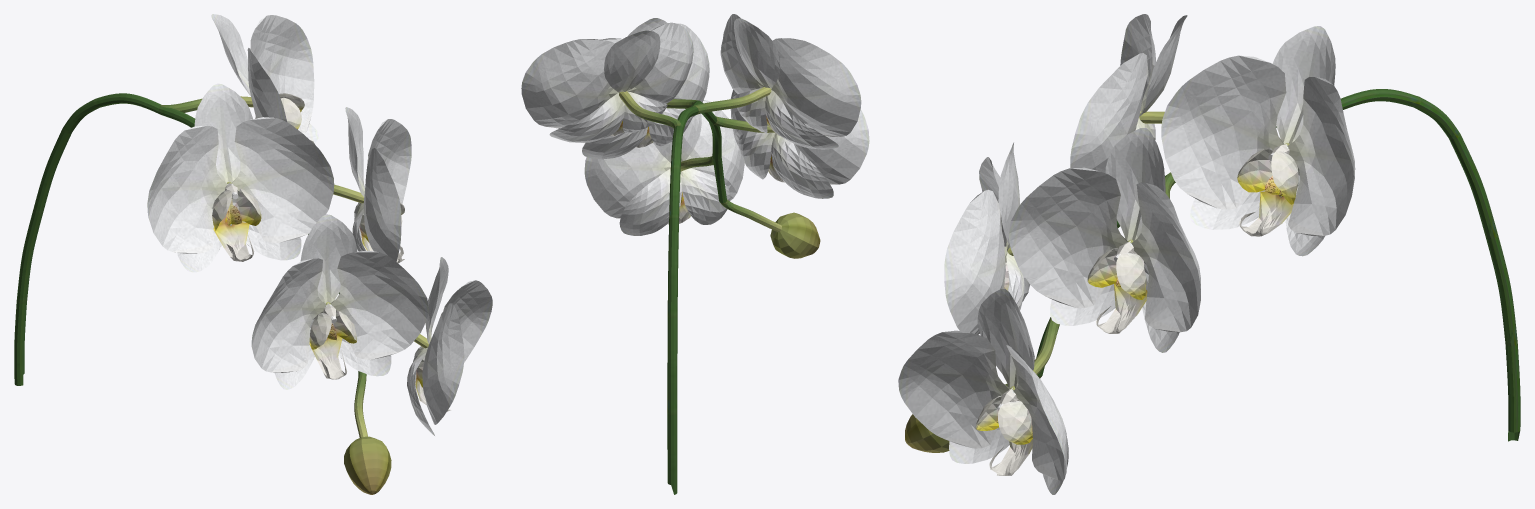
Rendered from orchids.fbx.
The picture shows the model from 3 angles, left to right: view 1: azimuth 30°, elevation 25°; view 2: azimuth 150°, elevation 25°; view 3: azimuth 270°, elevation 25°; orthographic projection. The views are drawn at different scales.
Visible parts, largest first — view 1: orchid; view 2: orchid; view 3: orchid.
Boxes of the visible parts, left/top/right/bottom form: orchid: left=14, top=14, right=492, bottom=494; orchid: left=521, top=14, right=869, bottom=494; orchid: left=898, top=14, right=1520, bottom=494.
Size of the model in its own units: 4187 by 5054 by 5911.
